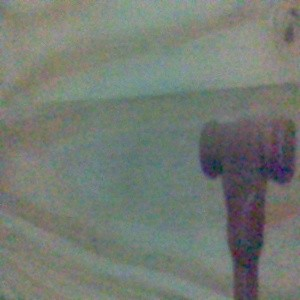palu: (198, 117, 297, 300)
